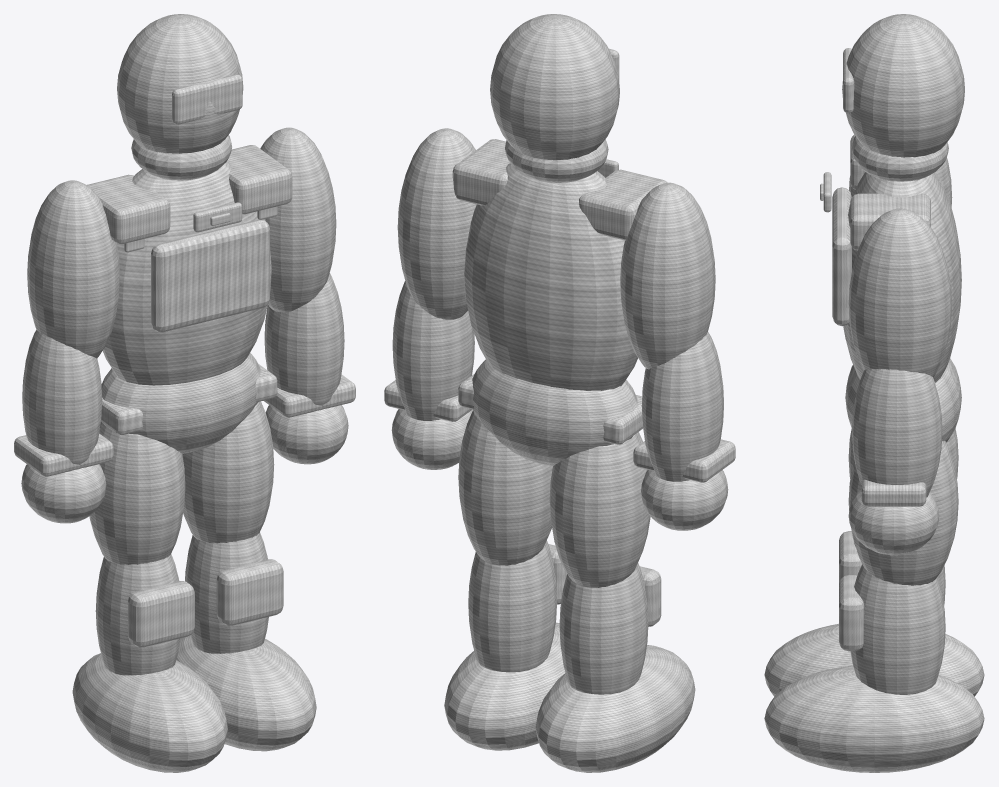
Rendered from hazmat_suit_variant_b.glb.
3 views of the same model, side by side, from view 1: azimuth 30°, elevation 25°; view 2: azimuth 150°, elevation 25°; view 3: azimuth 270°, elevation 25° (orthographic). The views are drawn at different scales.
Visible parts, largest first — view 1: Torso suit shell.001, Boot.003, Upper arm suit.002, Helmet placeholder.002, Chest armor plate, Thigh suit.002, Boot.004, Upper arm suit.003, Thigh suit.003, Hip section.002, Forearm suit.003, Forearm suit.004 (+14 smaller); view 2: Torso suit shell.001, Helmet placeholder.002, Upper arm suit.002, Boot.003, Thigh suit.002, Upper arm suit.003, Thigh suit.003, Hip section.002, Shin suit.004, Shin suit.003, Forearm suit.003, Boot.004 (+10 smaller); view 3: Boot.004, Upper arm suit.003, Helmet placeholder.002, Forearm suit.004, Shin suit.004, Thigh suit.003, Boot.003, Torso suit shell.001, Glove.004, Chest armor plate, Neck seal.002, Shoulder guard.001 (+7 smaller).
Part boxes in pixels (box(x1,y1,x2,y2)): Torso suit shell.001: box(102, 161, 271, 385); Boot.003: box(72, 653, 227, 772); Upper arm suit.002: box(27, 180, 119, 358); Helmet placeholder.002: box(117, 14, 243, 153); Chest armor plate: box(151, 219, 269, 332); Thigh suit.002: box(89, 422, 185, 564); Boot.004: box(176, 635, 316, 751); Upper arm suit.003: box(260, 127, 336, 312); Thigh suit.003: box(182, 401, 274, 543); Hip section.002: box(101, 353, 260, 453); Forearm suit.003: box(22, 330, 102, 469); Forearm suit.004: box(264, 273, 344, 410); Torso suit shell.001: box(464, 163, 637, 390); Helmet placeholder.002: box(490, 14, 619, 160); Upper arm suit.002: box(620, 182, 715, 369); Boot.003: box(535, 645, 695, 772); Thigh suit.002: box(549, 432, 650, 587); Upper arm suit.003: box(397, 128, 476, 319); Thigh suit.003: box(458, 410, 552, 565); Hip section.002: box(472, 359, 637, 466); Shin suit.004: box(468, 540, 556, 672); Shin suit.003: box(559, 563, 648, 694); Forearm suit.003: box(641, 332, 723, 481); Boot.004: box(444, 622, 565, 750); Boot.004: box(764, 665, 984, 772); Upper arm suit.003: box(848, 208, 952, 377); Helmet placeholder.002: box(842, 14, 964, 157); Forearm suit.004: box(852, 369, 942, 497); Shin suit.004: box(850, 564, 945, 694); Thigh suit.003: box(848, 441, 958, 585); Boot.003: box(764, 623, 984, 696); Torso suit shell.001: box(843, 172, 961, 382); Glove.004: box(848, 489, 939, 555); Chest armor plate: box(832, 187, 851, 326); Neck seal.002: box(852, 136, 948, 181); Shoulder guard.001: box(850, 193, 930, 250).
Size of what is drawn, in the model's own units: 1.13 by 2.47 by 0.68.
7 materials, 7 textured.
